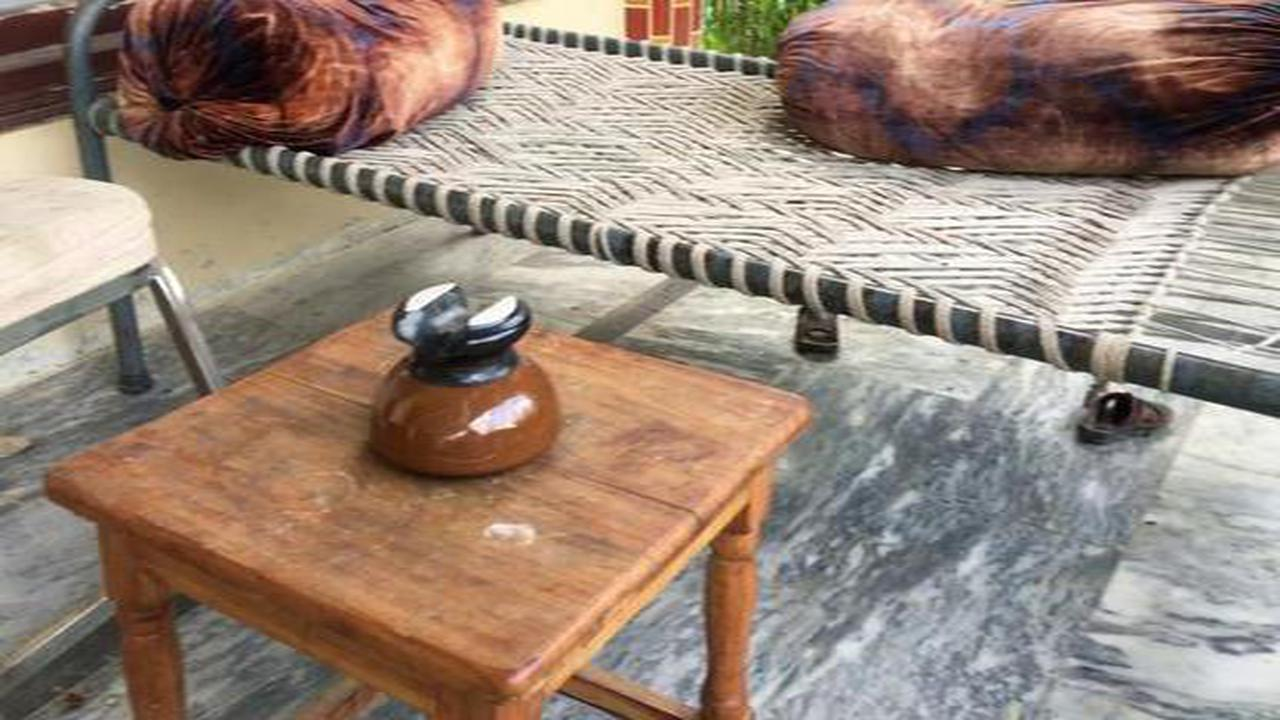insulator_pin: (348, 267, 582, 501)
